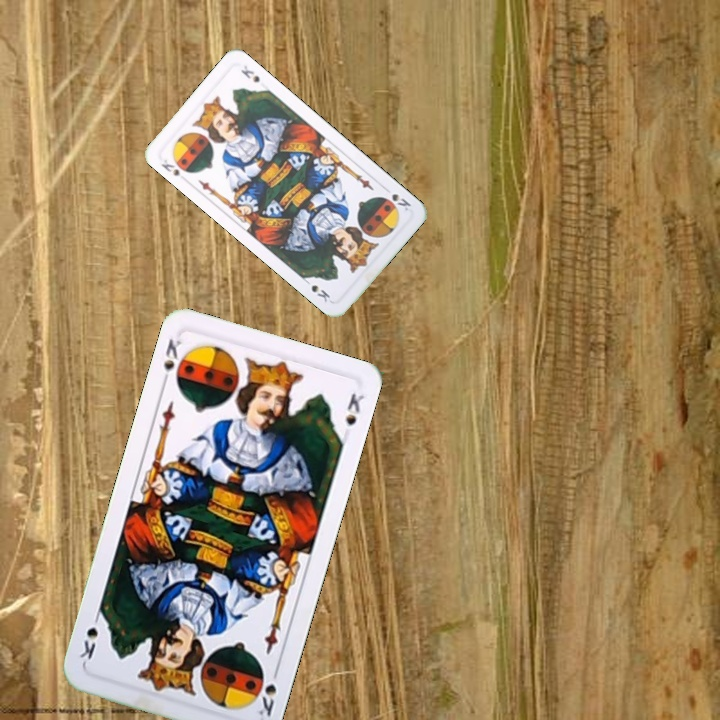SK: (250, 663, 282, 719), (159, 334, 184, 389), (379, 183, 414, 214), (157, 155, 182, 179)
